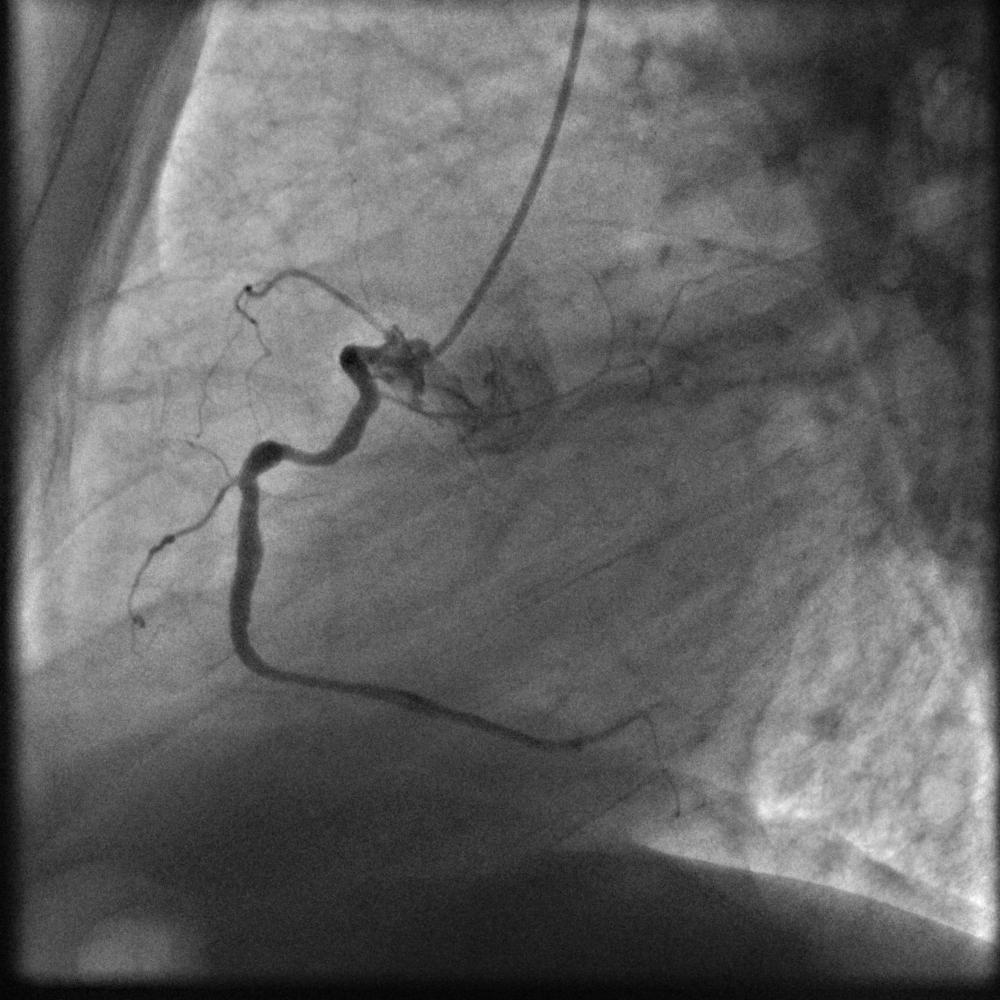Stenosis: (274, 439, 311, 469)
